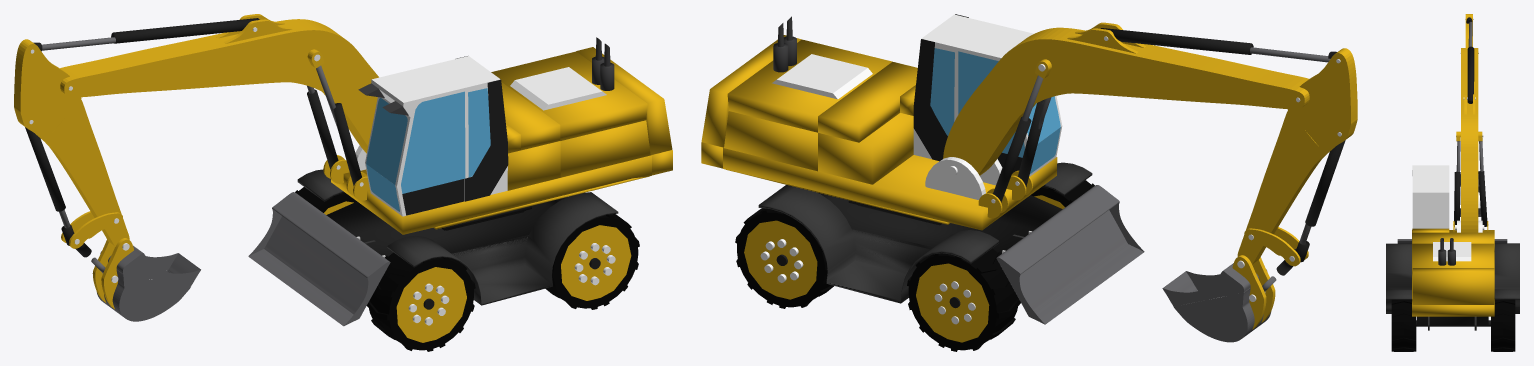
Rendered from excavator.glb.
3 views of the same model, side by side, from view 1: azimuth 30°, elevation 25°; view 2: azimuth 150°, elevation 25°; view 3: azimuth 270°, elevation 25° (orthographic). The views are drawn at different scales.
Visible parts, largest first — view 1: Plane.003, Brazo_principal, Pala_2.001, Circle.008, Brazo_abazo, Cabina, Plane.002, Plane.010, Pala, Yanta_2, Circle.002, Circle.007 (+17 smaller); view 2: Plane.003, Brazo_principal, Pala_2.001, Circle.009, Brazo_abazo, Plane.010, Pala, Yanta_3, Circle.003, Circle.005, Cabina, Yanta_3.001 (+19 smaller); view 3: Plane.003, Brazo_principal, Cabina, Circle.008, Circle.009, Yanta_2.001, Yanta_3.001, Plane.010, Radiador, Cylinder.006, Cylinder.015, Cylinder.016 (+8 smaller).
Part boxes in pixels (left/top/right/bottom): Plane.003: left=331, top=47, right=672, bottom=234; Brazo_principal: left=60, top=19, right=378, bottom=153; Pala_2.001: left=248, top=192, right=390, bottom=326; Circle.008: left=387, top=192, right=618, bottom=305; Brazo_abazo: left=14, top=39, right=129, bottom=246; Cabina: left=365, top=56, right=507, bottom=216; Plane.002: left=401, top=91, right=465, bottom=193; Plane.010: left=326, top=197, right=567, bottom=256; Pala: left=97, top=245, right=200, bottom=321; Yanta_2: left=366, top=252, right=475, bottom=351; Circle.002: left=396, top=267, right=466, bottom=342; Circle.007: left=561, top=225, right=631, bottom=300; Plane.003: left=701, top=35, right=1057, bottom=230; Brazo_principal: left=943, top=27, right=1309, bottom=175; Pala_2.001: left=996, top=185, right=1144, bottom=324; Circle.009: left=758, top=185, right=998, bottom=303; Brazo_abazo: left=1237, top=48, right=1357, bottom=264; Plane.010: left=817, top=192, right=1062, bottom=253; Pala: left=1162, top=263, right=1271, bottom=342; Yanta_3: left=907, top=248, right=1020, bottom=351; Circle.003: left=916, top=263, right=989, bottom=342; Circle.005: left=744, top=220, right=817, bottom=299; Cabina: left=913, top=14, right=1062, bottom=176; Yanta_3.001: left=735, top=208, right=833, bottom=308; Plane.003: left=1412, top=228, right=1494, bottom=316; Brazo_principal: left=1461, top=48, right=1478, bottom=232; Cabina: left=1412, top=165, right=1449, bottom=228; Circle.008: left=1386, top=243, right=1411, bottom=313; Circle.009: left=1494, top=243, right=1519, bottom=313; Yanta_2.001: left=1391, top=299, right=1416, bottom=351; Yanta_3.001: left=1491, top=299, right=1515, bottom=351; Plane.010: left=1417, top=316, right=1488, bottom=324; Radiador: left=1433, top=242, right=1471, bottom=261; Cylinder.006: left=1467, top=46, right=1474, bottom=103; Cylinder.015: left=1478, top=171, right=1487, bottom=226; Cylinder.016: left=1454, top=171, right=1460, bottom=226.
Size of the model in its own units: 4.58 by 2.46 by 1.53.
